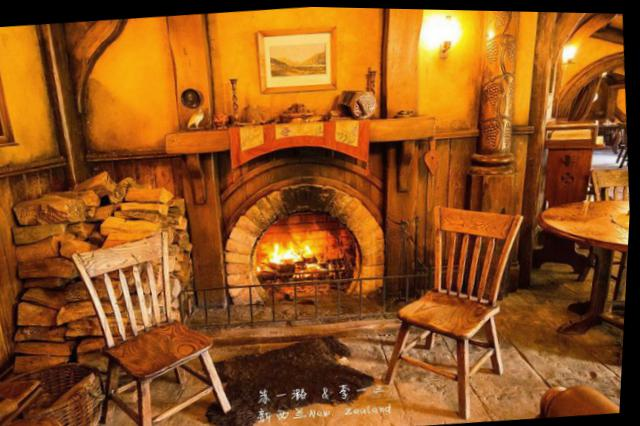fire: (268, 236, 302, 261), (300, 233, 319, 254)
